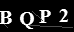2: (57, 9, 69, 23)
B: (1, 10, 12, 25)
P: (37, 9, 51, 24)
Q: (19, 12, 34, 30)
